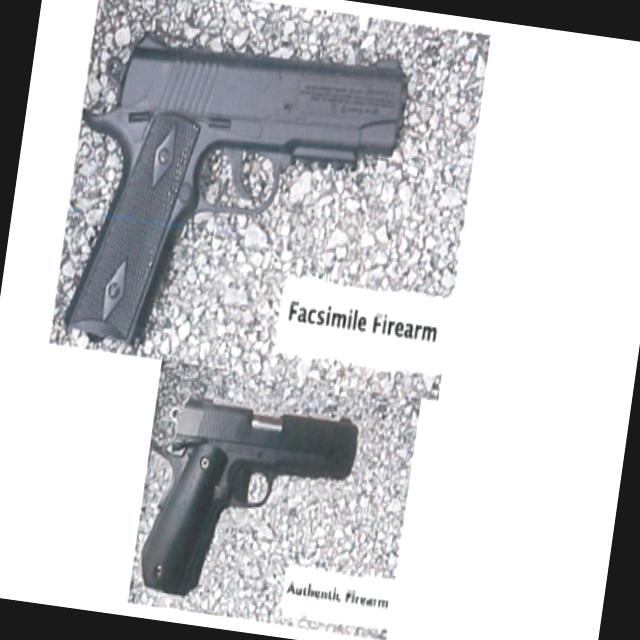handgun: (55, 3, 408, 385), (134, 370, 366, 632)
